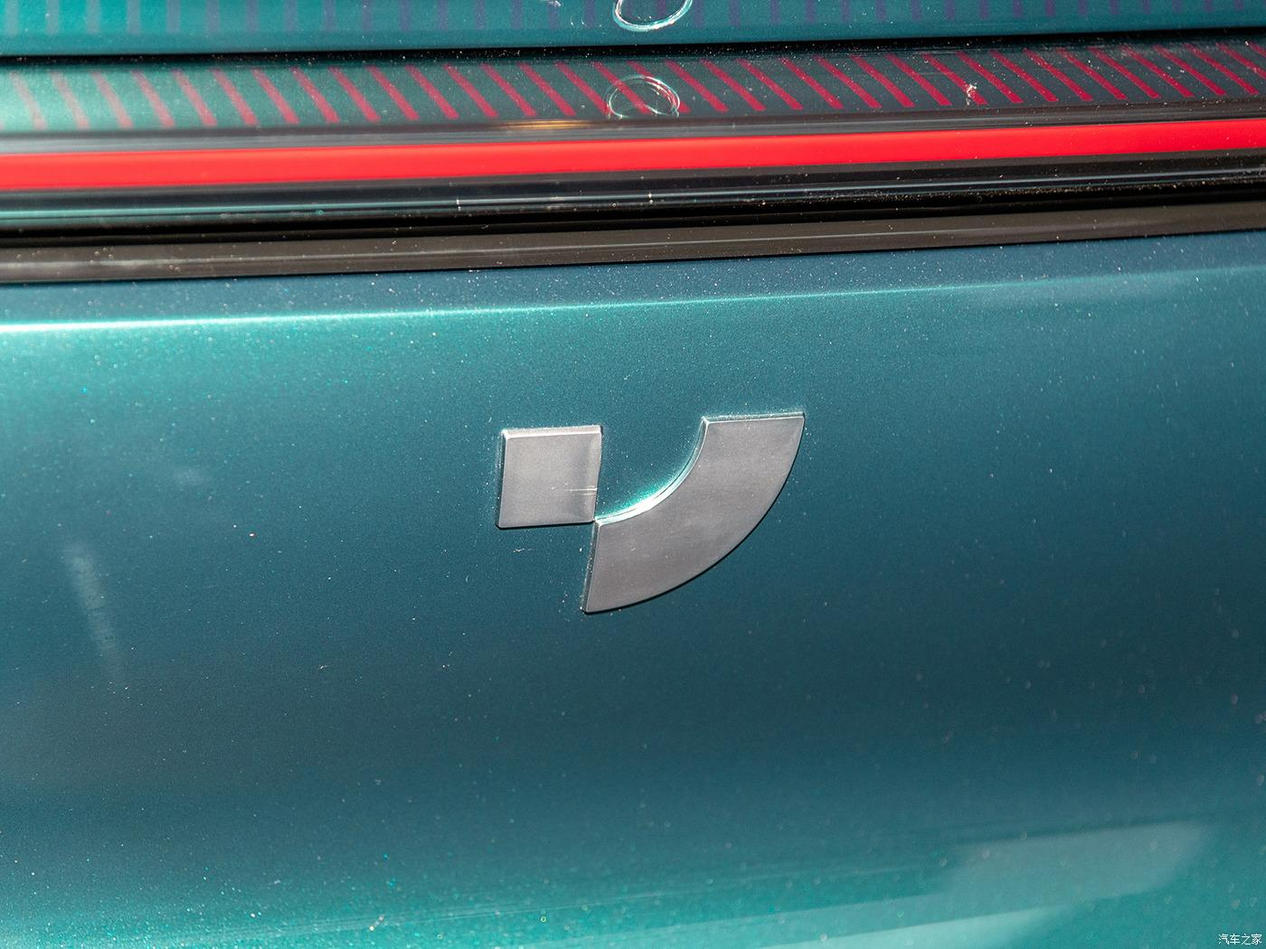JIYUE: (493, 405, 807, 619)
